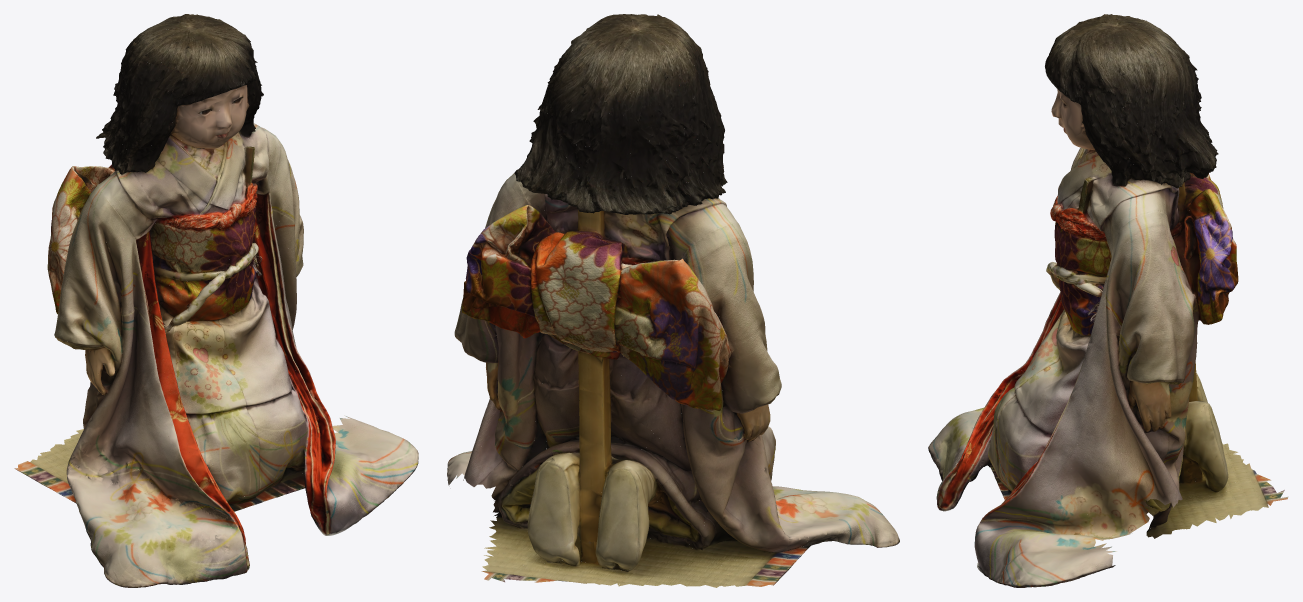
File: doll.glb
3 views of the same model, side by side, from view 1: azimuth 30°, elevation 25°; view 2: azimuth 150°, elevation 25°; view 3: azimuth 270°, elevation 25° (orthographic). The views are drawn at different scales.
Parts seen in each view (by area): view 1: Ichimatsu_scan_4, Ichimatsu_scan_3, Ichimatsu_scan_5, Ichimatsu_scan_1, Ichimatsu_scan_2, Ichimatsu_scan_0; view 2: Ichimatsu_scan_2, Ichimatsu_scan_1, Ichimatsu_scan_4, Ichimatsu_scan_5, Ichimatsu_scan_3, Ichimatsu_scan_0; view 3: Ichimatsu_scan_0, Ichimatsu_scan_3, Ichimatsu_scan_2, Ichimatsu_scan_5, Ichimatsu_scan_1, Ichimatsu_scan_4.
Part boxes in pixels (x1,y1,x2,y2): Ichimatsu_scan_4: (14, 36, 287, 528); Ichimatsu_scan_3: (67, 28, 345, 515); Ichimatsu_scan_5: (54, 14, 320, 571); Ichimatsu_scan_1: (40, 39, 325, 587); Ichimatsu_scan_2: (48, 14, 399, 587); Ichimatsu_scan_0: (55, 83, 418, 554); Ichimatsu_scan_2: (472, 33, 899, 571); Ichimatsu_scan_1: (486, 45, 870, 587); Ichimatsu_scan_4: (465, 135, 807, 586); Ichimatsu_scan_5: (454, 14, 808, 571); Ichimatsu_scan_3: (462, 14, 786, 565); Ichimatsu_scan_0: (447, 124, 812, 586); Ichimatsu_scan_0: (939, 106, 1271, 587); Ichimatsu_scan_3: (978, 14, 1236, 535); Ichimatsu_scan_2: (966, 16, 1251, 584); Ichimatsu_scan_5: (937, 19, 1230, 511); Ichimatsu_scan_1: (928, 45, 1231, 508); Ichimatsu_scan_4: (955, 56, 1288, 532).
Bounding box in the file's own units: 0.5391 × 0.72 × 0.4677.
6 materials, 6 textured.
